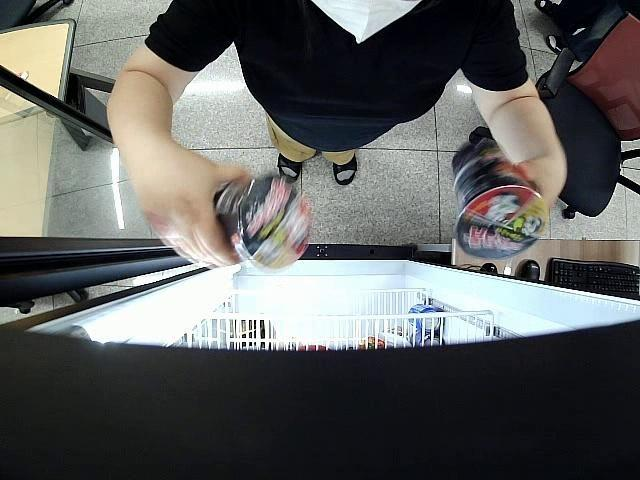08_buldak_S: (452, 139, 546, 256), (217, 172, 310, 269)
